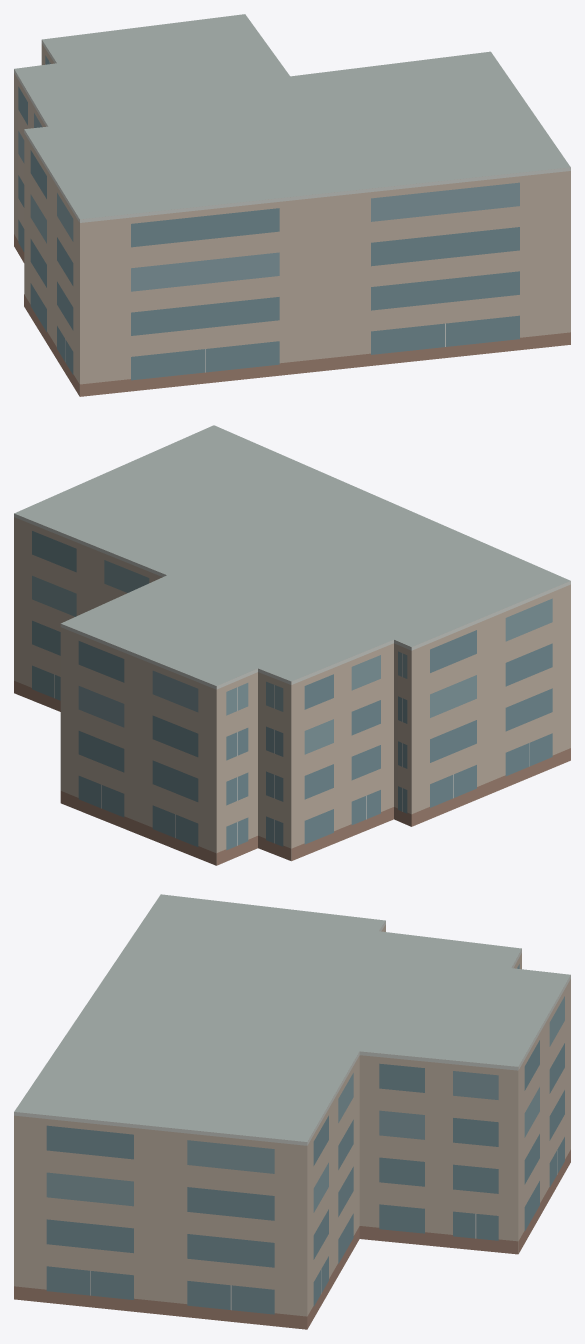
The model's file is residential-ff27214f-078e-460e-8a82-667147941e4b.glb.
3 views of the same model, one above another, from view 1: azimuth 30°, elevation 25°; view 2: azimuth 150°, elevation 25°; view 3: azimuth 270°, elevation 25° (orthographic). The views are drawn at different scales.
Parts seen in each view (by area): view 1: residential-ff27214f-078e-460e-8a82-667147941e4b.tmp; view 2: residential-ff27214f-078e-460e-8a82-667147941e4b.tmp; view 3: residential-ff27214f-078e-460e-8a82-667147941e4b.tmp.
Part boxes in pixels (box(x1,y1,x2,y2)): residential-ff27214f-078e-460e-8a82-667147941e4b.tmp: box(14, 14, 570, 396); residential-ff27214f-078e-460e-8a82-667147941e4b.tmp: box(14, 425, 570, 865); residential-ff27214f-078e-460e-8a82-667147941e4b.tmp: box(14, 894, 570, 1329).
Bounding box in the file's own units: 34.59 × 12.2 × 32.84.
